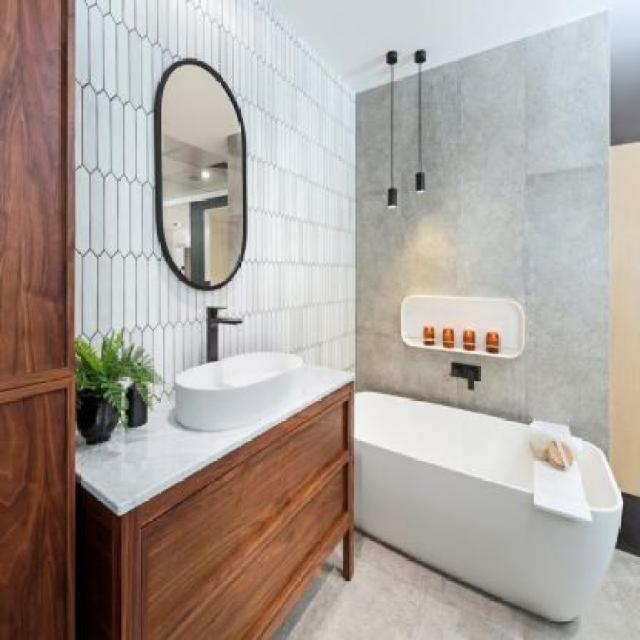floor: (277, 531, 640, 640)
